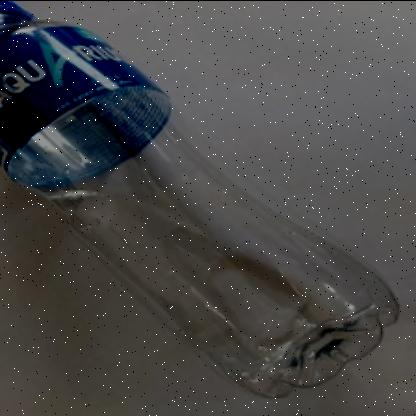Plastic Bottle: (0, 0, 400, 402)
